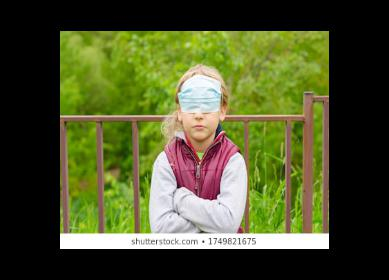mask_weared_incorrect: (179, 81, 220, 139)
